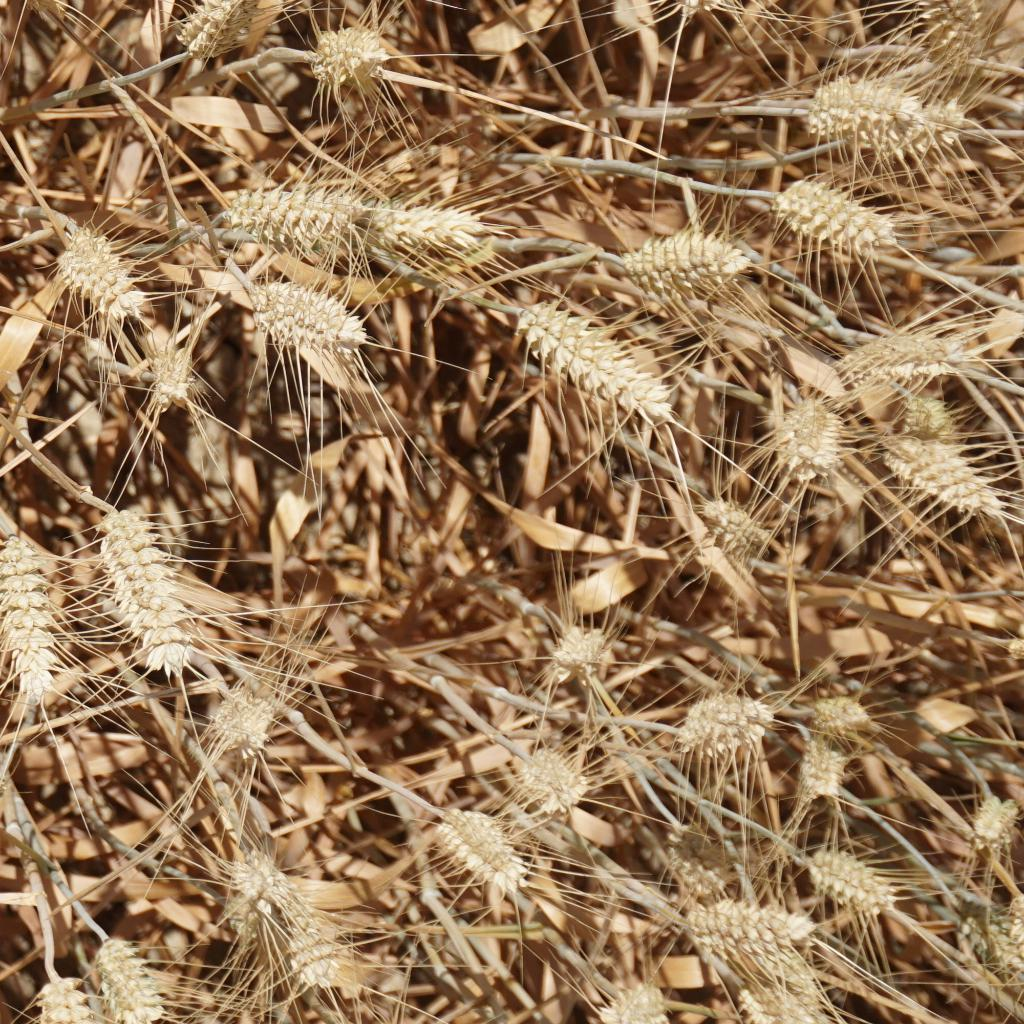0-0: (74, 486, 190, 665), (500, 303, 669, 409), (419, 803, 539, 905), (0, 535, 69, 695), (679, 896, 809, 980), (844, 315, 1007, 381), (876, 425, 992, 516), (368, 195, 518, 265), (811, 72, 951, 147), (272, 878, 366, 989), (253, 275, 374, 358), (305, 21, 409, 114), (612, 228, 746, 295), (220, 183, 346, 253), (777, 177, 891, 253), (761, 384, 844, 478), (70, 224, 145, 323), (805, 842, 900, 919), (509, 736, 598, 815), (903, 0, 990, 78), (675, 681, 765, 756), (92, 927, 161, 1021), (742, 939, 816, 1024), (793, 681, 884, 750), (577, 961, 669, 1024), (206, 683, 283, 756), (697, 492, 774, 565), (130, 323, 190, 413), (547, 618, 622, 687), (230, 846, 289, 933), (659, 838, 734, 902), (175, 0, 269, 49), (799, 738, 862, 809), (966, 779, 1021, 850), (31, 956, 81, 1024), (681, 0, 787, 25), (0, 738, 31, 821), (13, 0, 82, 15)
